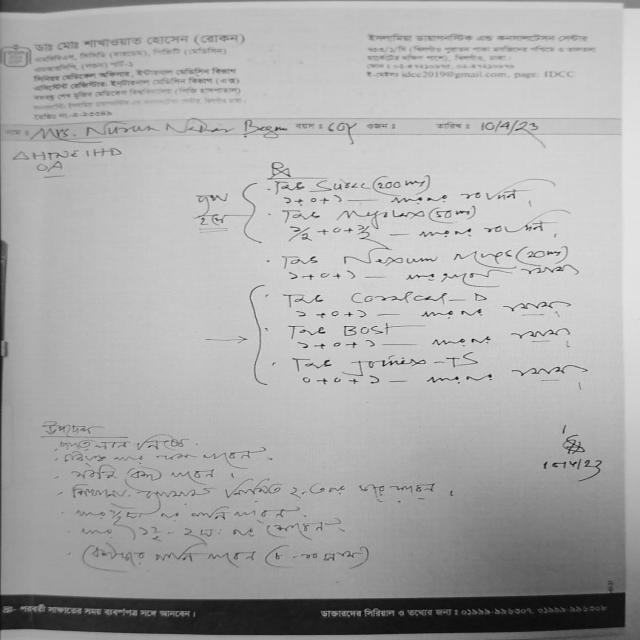medicine: (337, 246, 517, 268), (344, 352, 492, 376), (342, 286, 499, 308), (332, 204, 430, 226), (310, 176, 370, 196), (338, 323, 398, 340)
